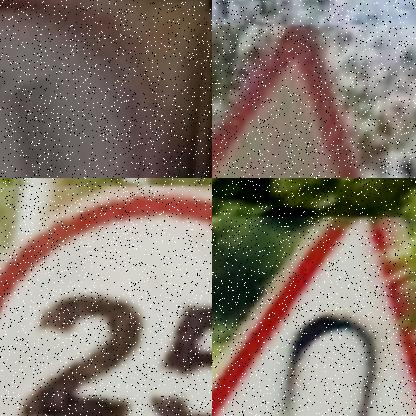Road Divides: (0, 0, 212, 178)
Speed Breaker Ahead: (212, 26, 357, 178)
Speed Limit (25 kmph): (0, 186, 212, 416)
U-Turn: (212, 217, 416, 416)
